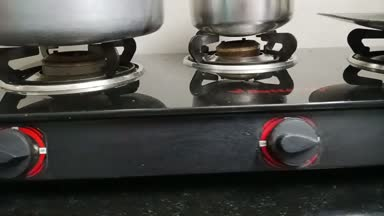flame_gas_off: (191, 27, 330, 173), (0, 42, 125, 182)
